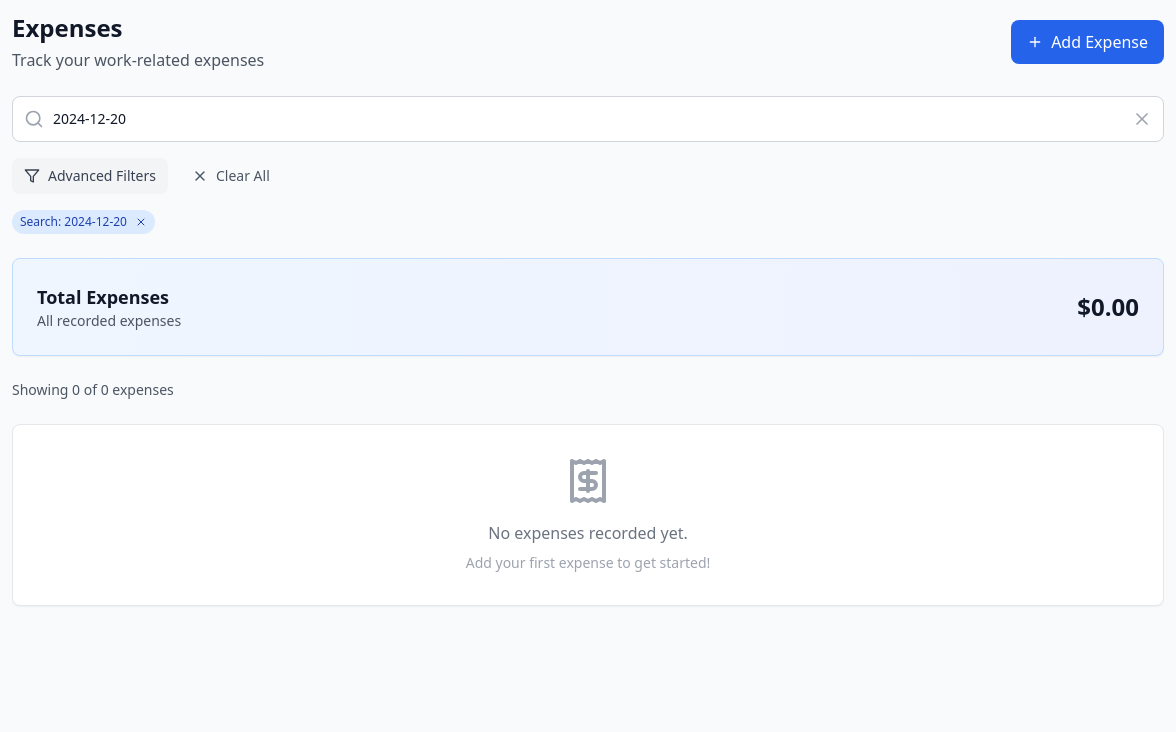
Test: Expenses › allows canceling the add expense form
Note: Open form
Step 1. Click the button "Add Expense" → (1088, 42), box [1011,20,1164,64]
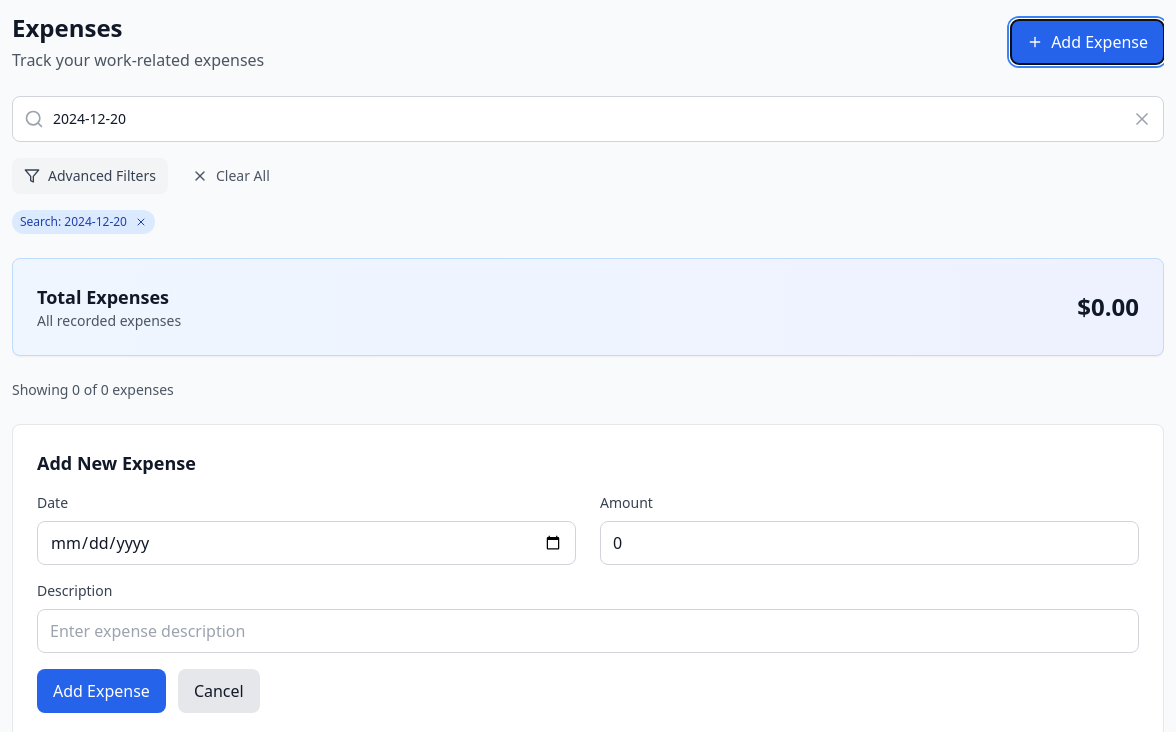
Note: Cancel form
Step 2. Click the button "Cancel" → (219, 691), box [178,669,260,713]
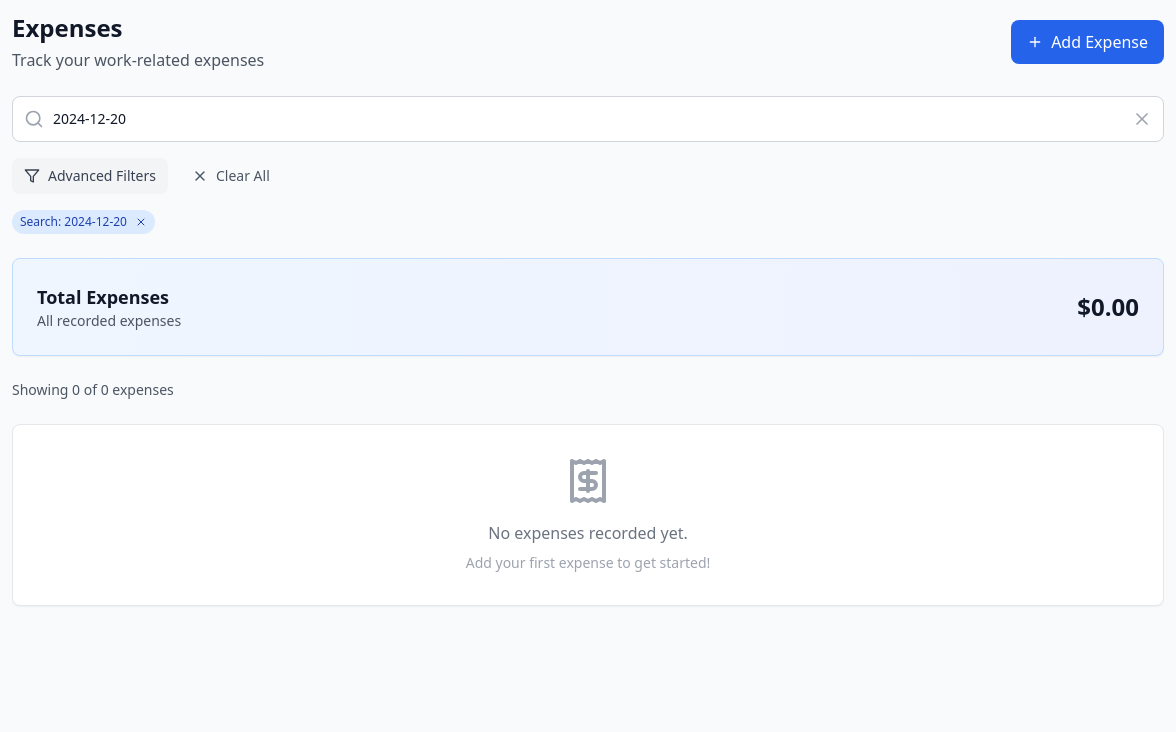
Result: the heading "Add New Expense" is gone
